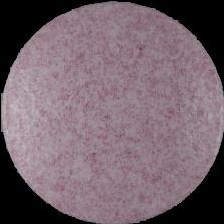63629-5484: (0, 0, 224, 224)
